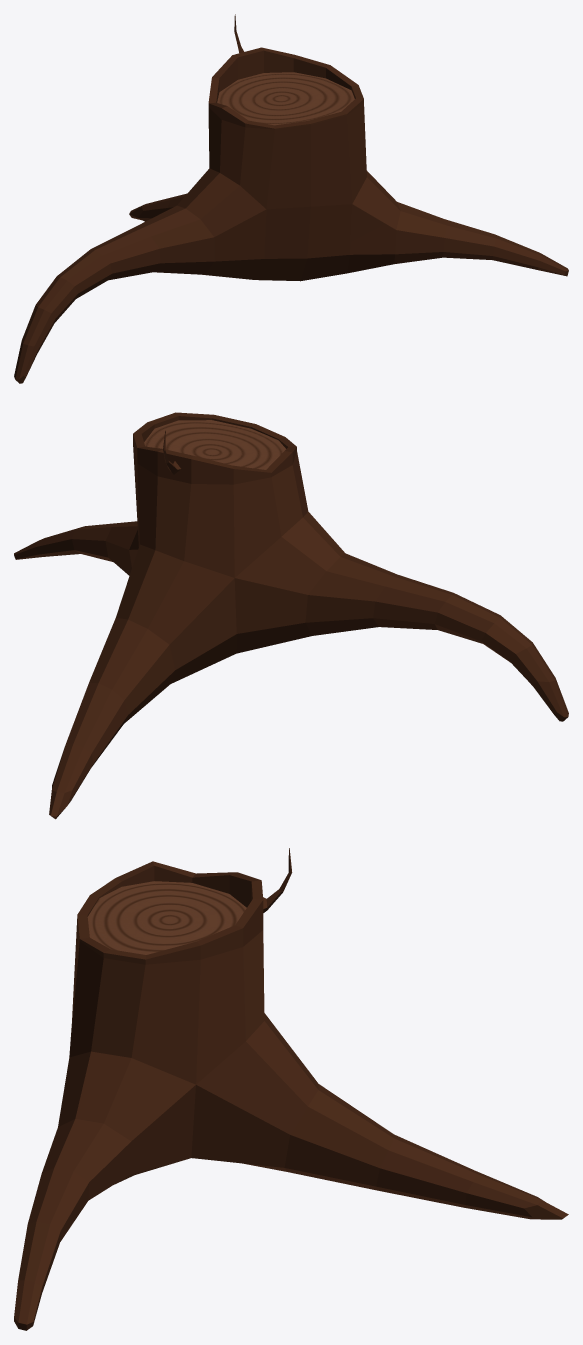
Rendered from Stump_1.FBX.
3 views of the same model, one above another, from view 1: azimuth 30°, elevation 25°; view 2: azimuth 150°, elevation 25°; view 3: azimuth 270°, elevation 25° (orthographic). The views are drawn at different scales.
Visible parts, largest first — view 1: Stump_1; view 2: Stump_1; view 3: Stump_1.
Part boxes in pixels (x1=…): Stump_1: x1=14, y1=14, x2=568, y2=383; Stump_1: x1=14, y1=412, x2=568, y2=819; Stump_1: x1=14, y1=848, x2=568, y2=1330.
Size of the model in its own units: 461 by 232 by 313.
